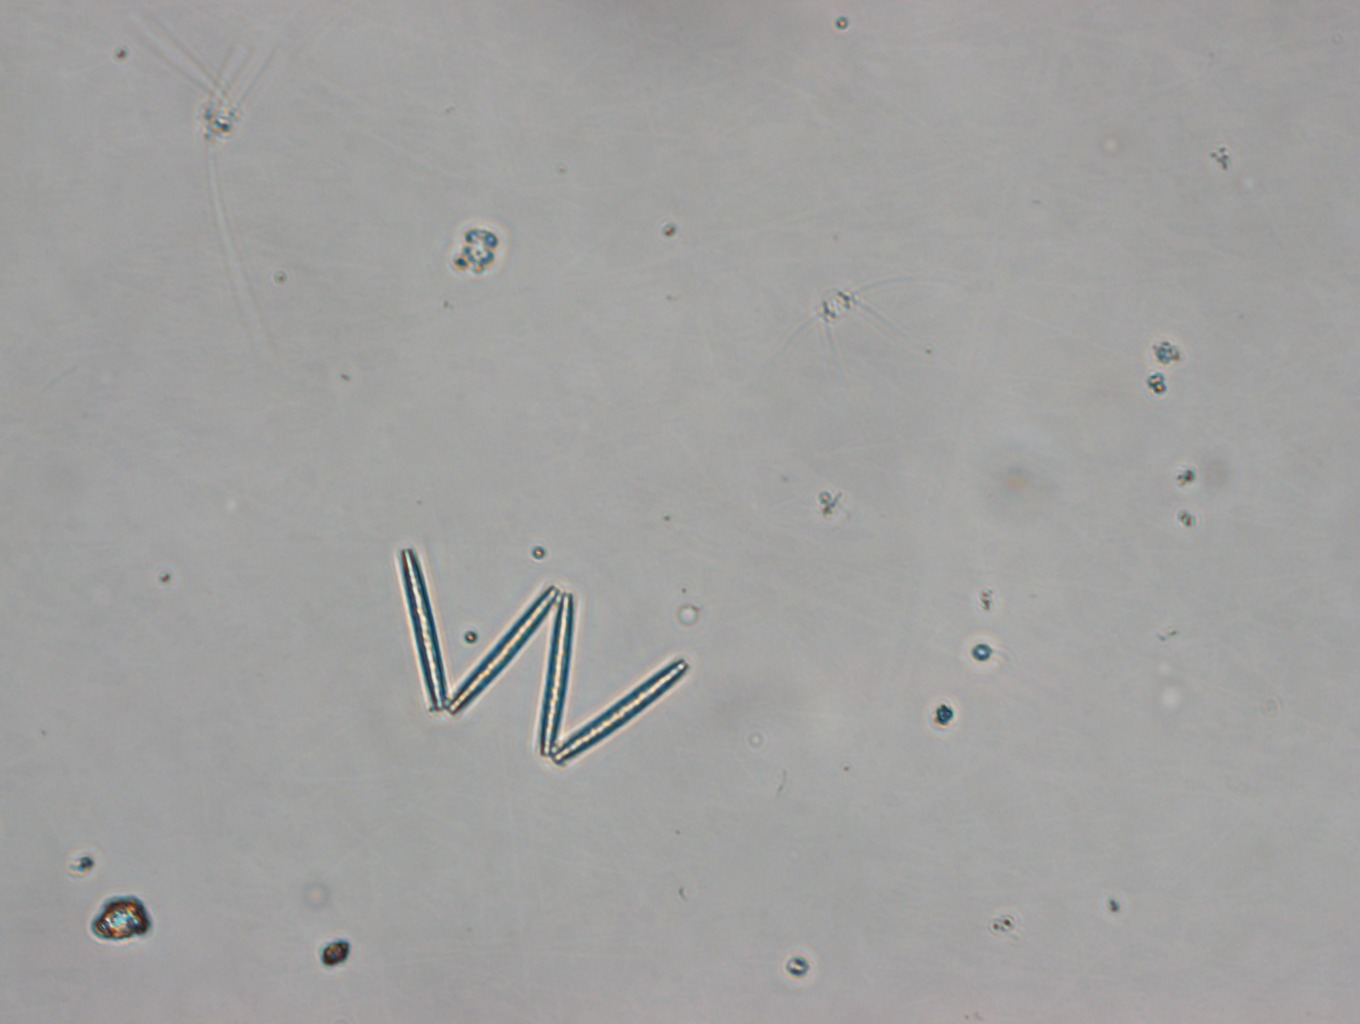thalassionema nitzschioides: (393, 547, 705, 772)
